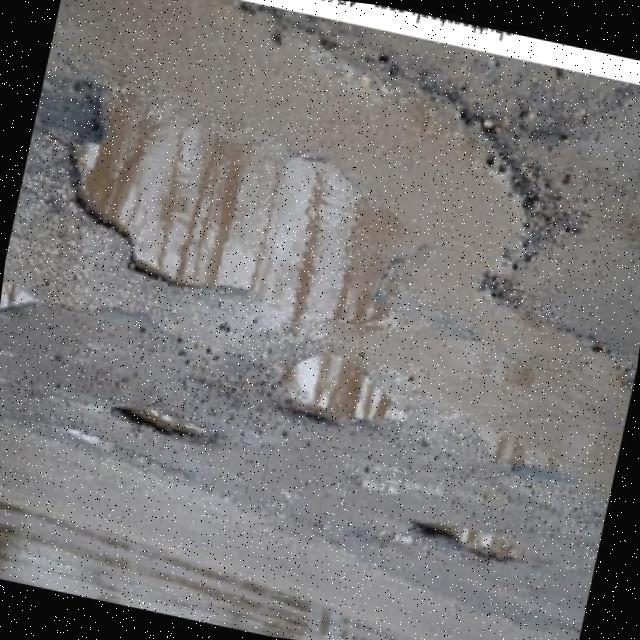Pothole: (75, 96, 395, 323), (281, 353, 391, 423), (105, 401, 219, 443), (407, 521, 515, 559)
